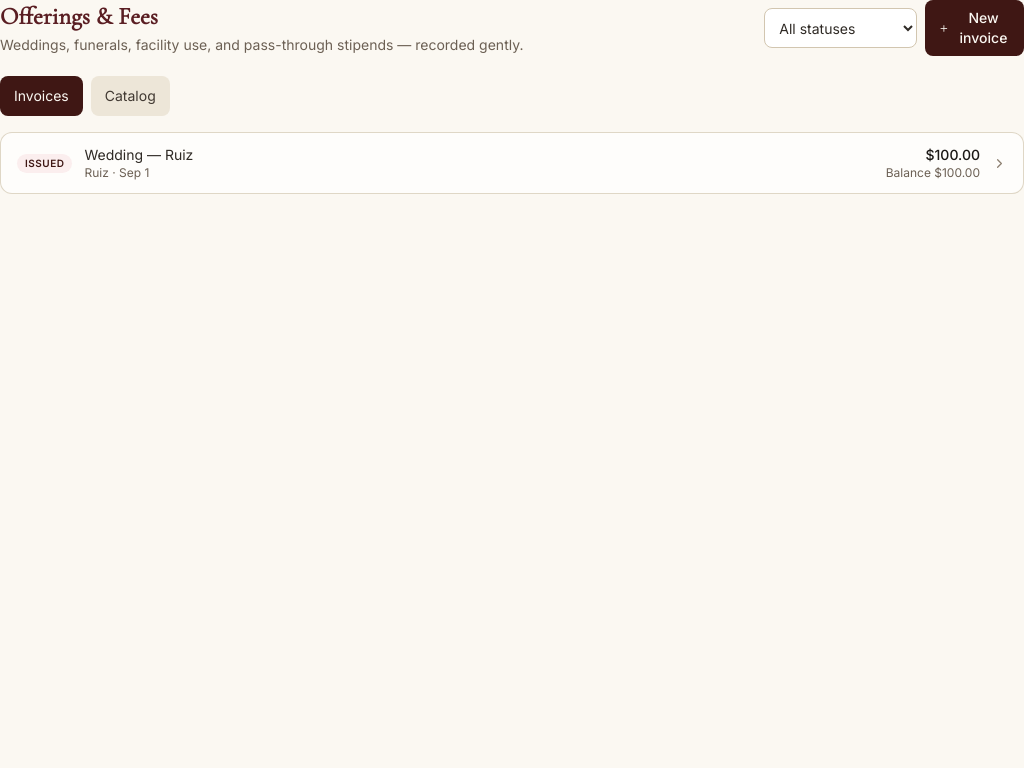
Test: invoice figures and ids keep their shape › shows a false line amount as unavailable and keeps a real zero
The width and height of the screenshot is (1024, 768).
Click the button "Issued Wedding — Ruiz Ruiz · Sep 1 $100.00 Balance $100.00": (45, 163) left=0, top=132, right=1023, bottom=194
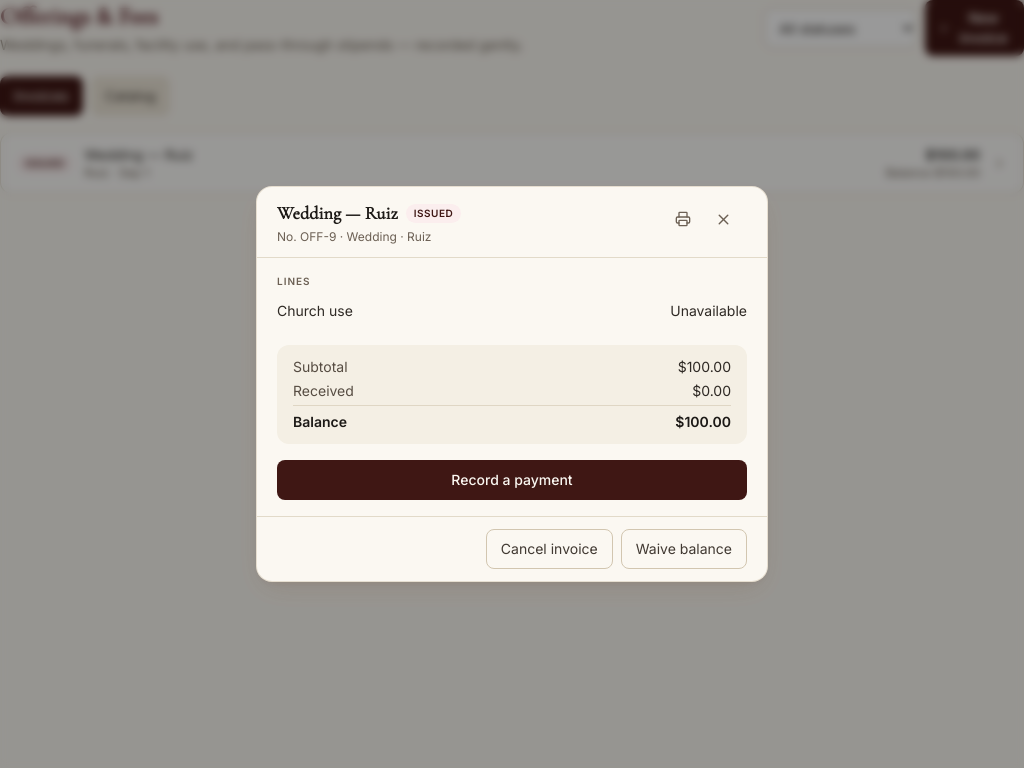
Check: the text "Church use" is shown, box left=277, top=301, right=353, bottom=321
Check: the text "Unavailable" is shown, box left=670, top=301, right=747, bottom=321
Check: the text "$0.00" is shown, box left=692, top=381, right=731, bottom=401
